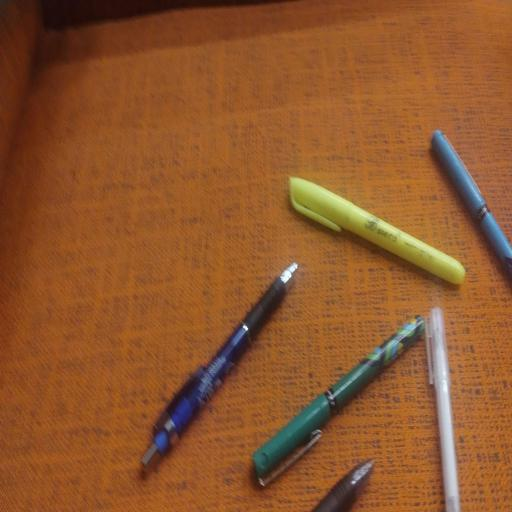pen: (142, 264, 297, 470), (253, 316, 424, 485), (290, 178, 465, 283), (432, 130, 511, 279), (426, 308, 460, 511), (312, 461, 373, 511)
